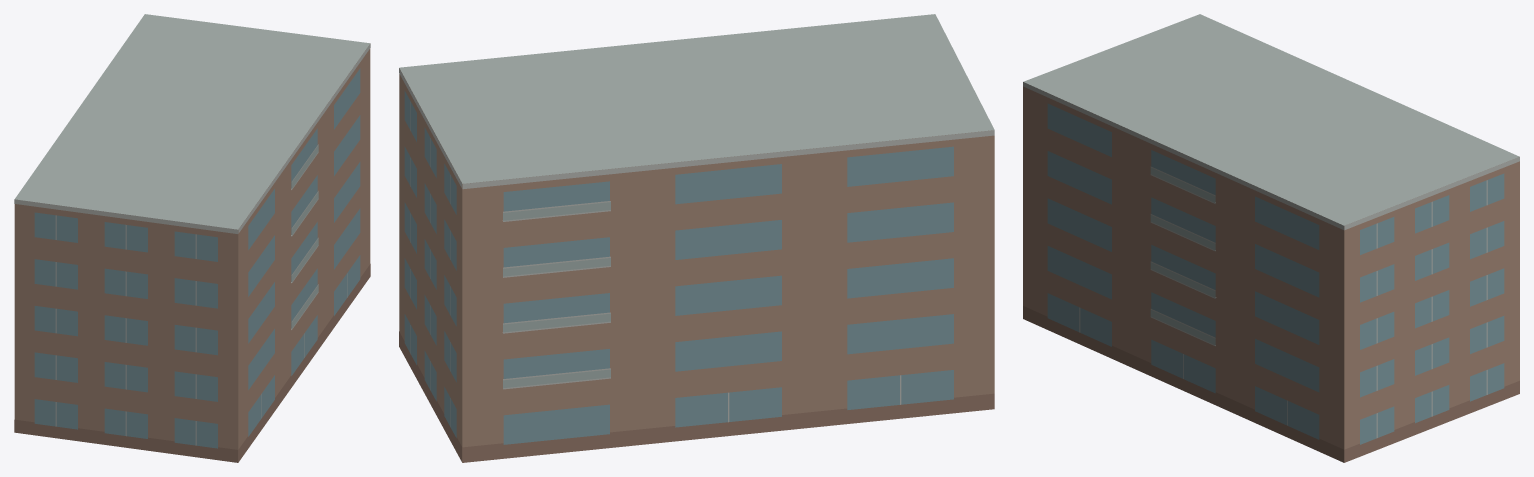
Rendered from survey-upis-33018832.glb.
3 views of the same model, side by side, from view 1: azimuth 30°, elevation 25°; view 2: azimuth 150°, elevation 25°; view 3: azimuth 270°, elevation 25° (orthographic). The views are drawn at different scales.
Visible parts, largest first — view 1: survey-upis-33018832.tmp; view 2: survey-upis-33018832.tmp; view 3: survey-upis-33018832.tmp.
Boxes of the visible parts, x1=… form: survey-upis-33018832.tmp: x1=14, y1=14, x2=370, y2=462; survey-upis-33018832.tmp: x1=399, y1=14, x2=994, y2=462; survey-upis-33018832.tmp: x1=1023, y1=14, x2=1519, y2=462.
Size of the model in its own units: 24.15 by 12.6 by 23.93.
